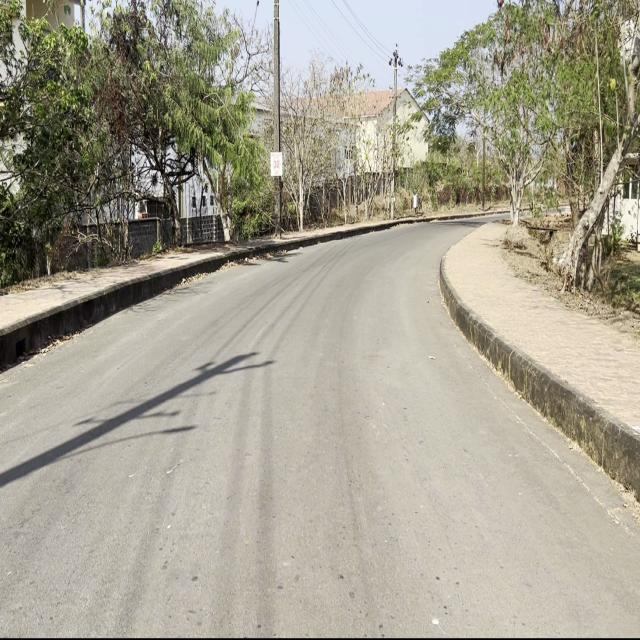Road: (3, 225, 638, 631)
